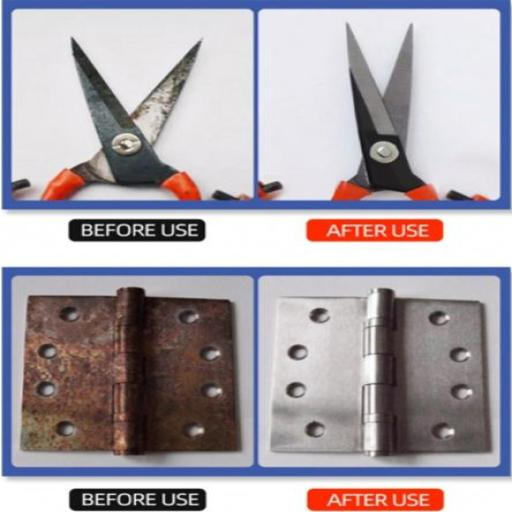corrosion: (78, 284, 241, 456), (21, 295, 125, 453), (0, 341, 74, 416)
